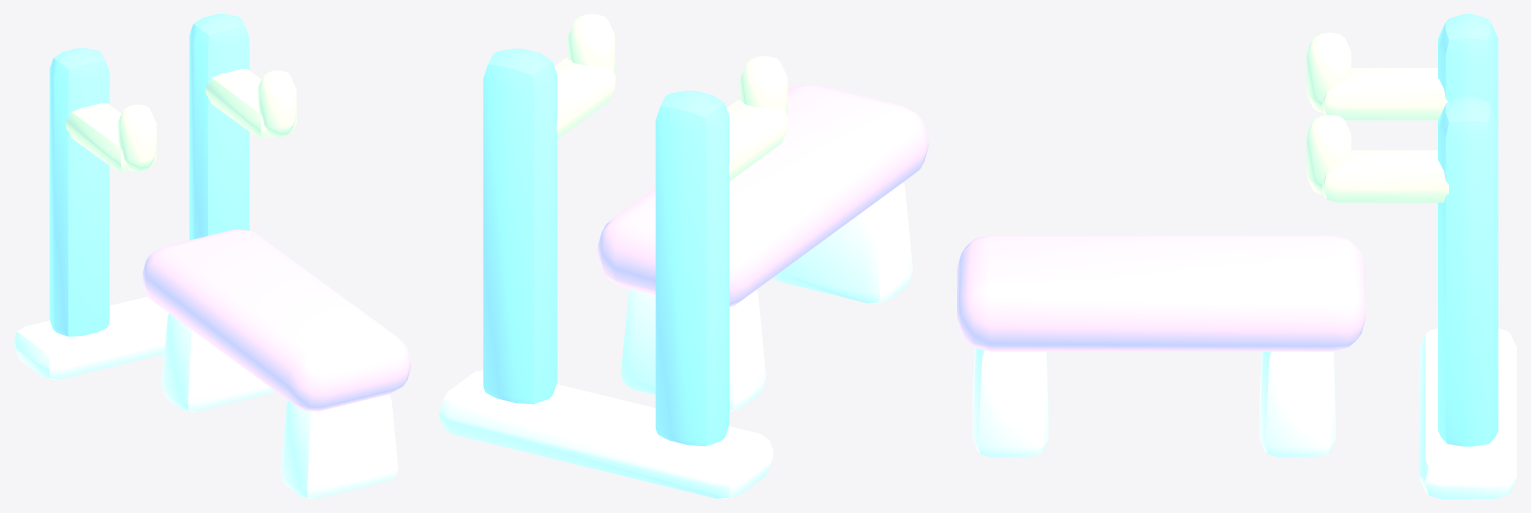
File: props__Bench.glb
The picture shows the model from 3 angles, left to right: view 1: azimuth 30°, elevation 25°; view 2: azimuth 150°, elevation 25°; view 3: azimuth 270°, elevation 25°; orthographic projection. The views are drawn at different scales.
Visible parts, largest first — view 1: Bench; view 2: Bench; view 3: Bench.
Boxes of the visible parts, x1,y1,x2,y2 form: Bench: (14, 14, 410, 498); Bench: (439, 14, 928, 498); Bench: (957, 14, 1516, 498).
Bounding box in the file's own units: 3.5 × 4.25 × 5.75.
